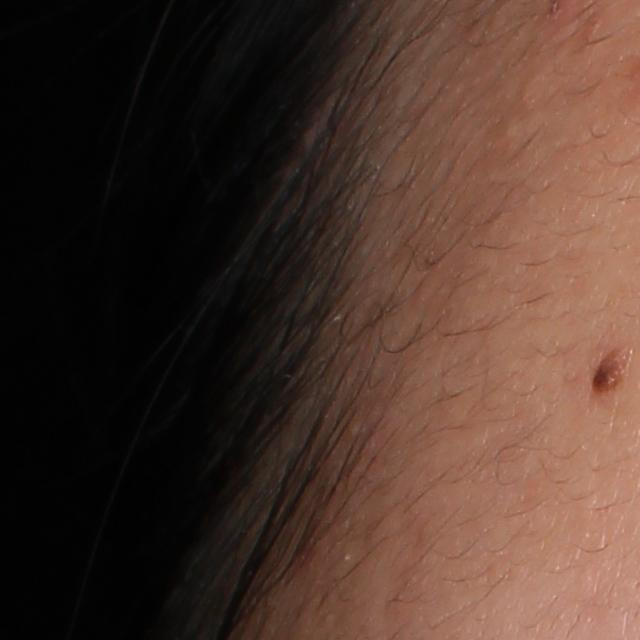nevus: (585, 344, 634, 400)
